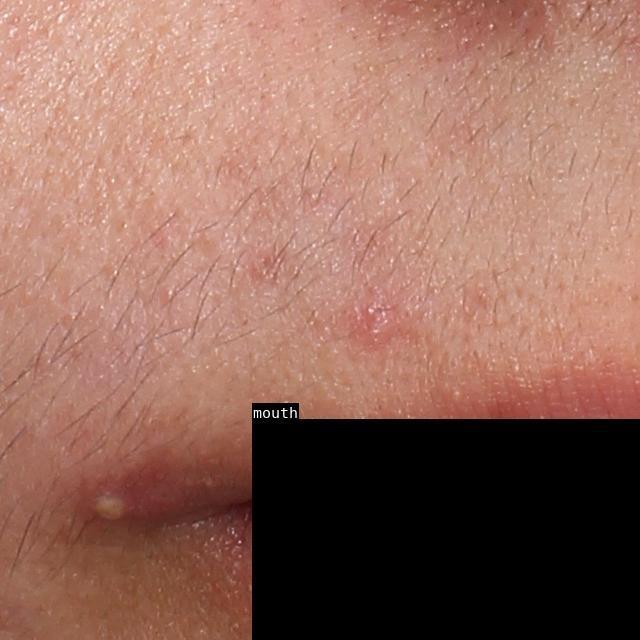papule: (354, 300, 398, 347)
pustule: (89, 482, 153, 535)
